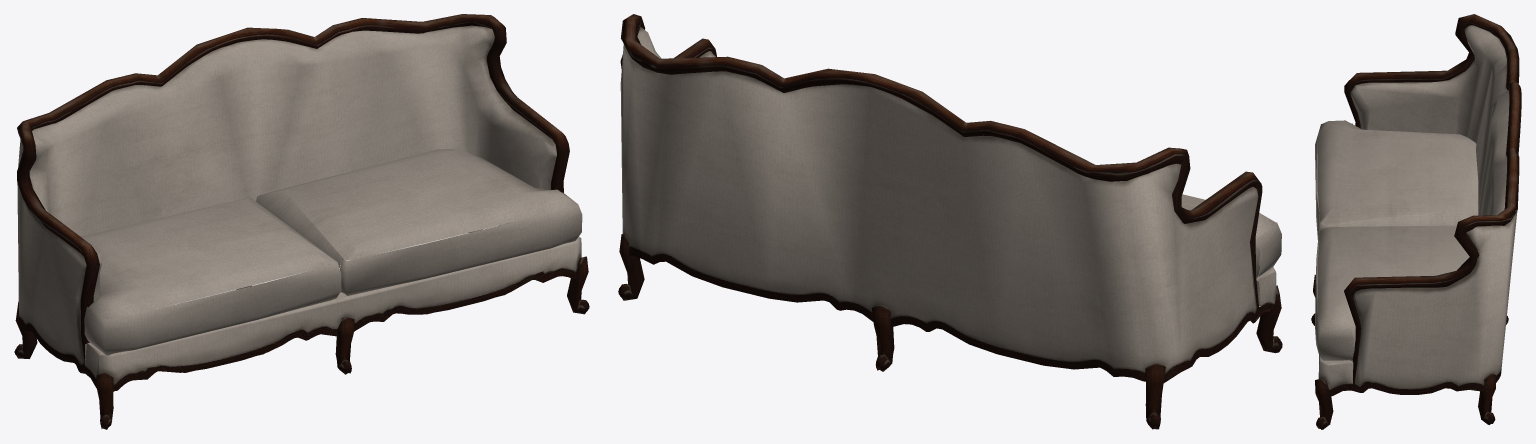
The model's file is sofa.glb.
The picture shows the model from 3 angles, left to right: view 1: azimuth 30°, elevation 25°; view 2: azimuth 150°, elevation 25°; view 3: azimuth 270°, elevation 25°; orthographic projection. The views are drawn at different scales.
Visible parts, largest first — view 1: Sofa_01; view 2: Sofa_01; view 3: Sofa_01.
Part boxes in pixels (<box>): Sofa_01: <box>14,14,589,429</box>; Sofa_01: <box>618,14,1282,429</box>; Sofa_01: <box>1311,14,1521,429</box>.
Size of the model in its own units: 1.57 by 0.7966 by 0.6597.
Materials: 1 (1 with a texture image).
